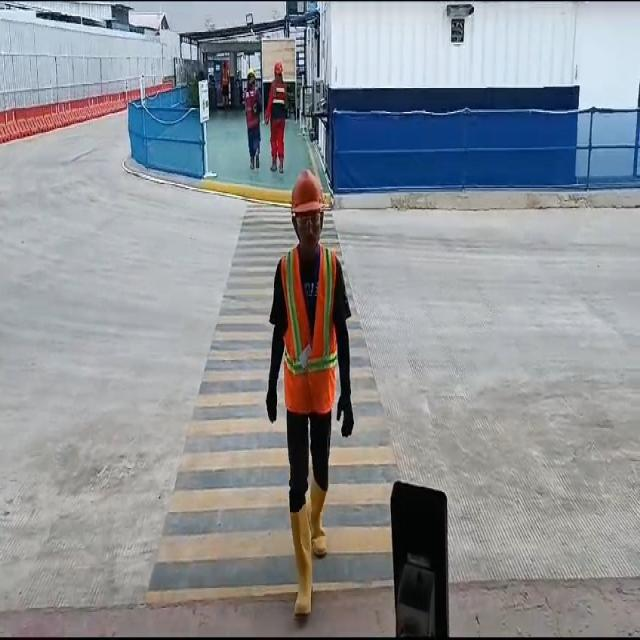gloves: (337, 395, 357, 437), (264, 389, 280, 426)
goggles: (294, 211, 326, 231)
helmet: (294, 168, 324, 212), (275, 60, 284, 75)
safety_vest: (282, 258, 334, 414), (304, 481, 329, 558), (271, 79, 286, 121), (244, 89, 260, 126)
